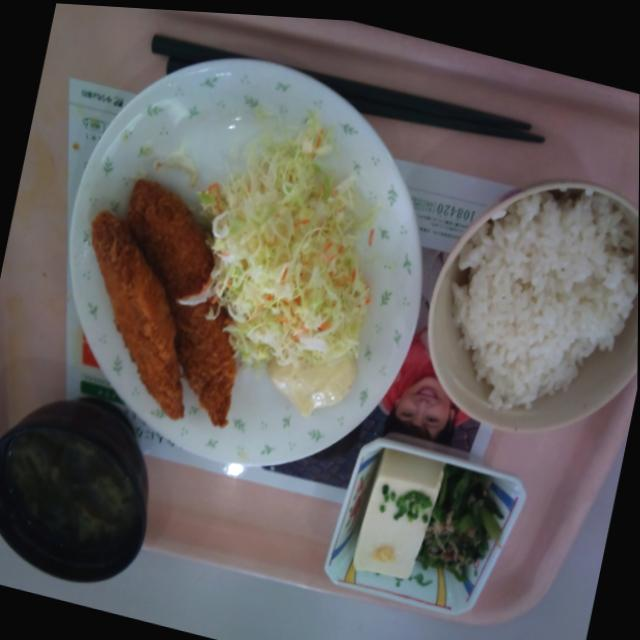炸货点心: (45, 165, 291, 458)
米饭主食: (403, 136, 639, 450)
